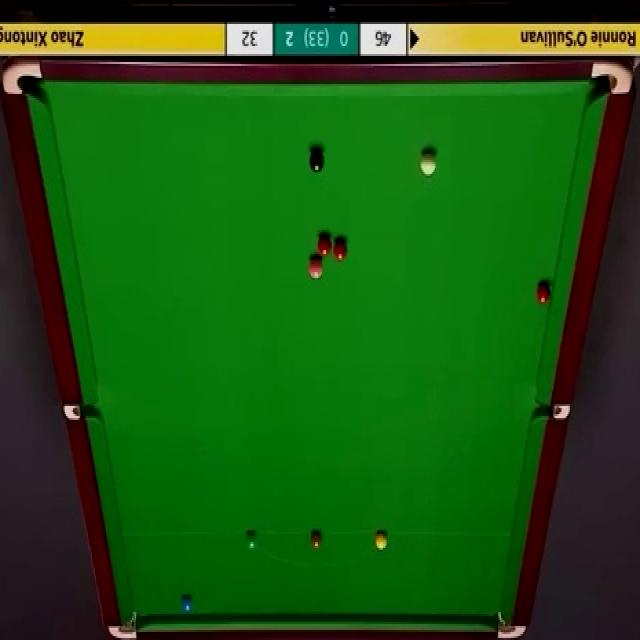black-ball: (309, 153, 325, 173)
blue-ball: (180, 594, 194, 613)
brown-ball: (310, 531, 323, 548)
green-ball: (244, 528, 258, 552)
pink-ball: (308, 256, 324, 280)
red-ball: (317, 230, 331, 257), (333, 239, 348, 262), (535, 284, 552, 304)
white-ball: (418, 150, 437, 177)
yellow-ball: (374, 530, 388, 551)
